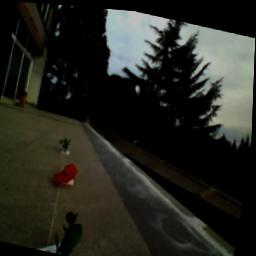herb: (53, 207, 89, 256), (59, 135, 75, 154)
wild: (54, 159, 82, 190)
